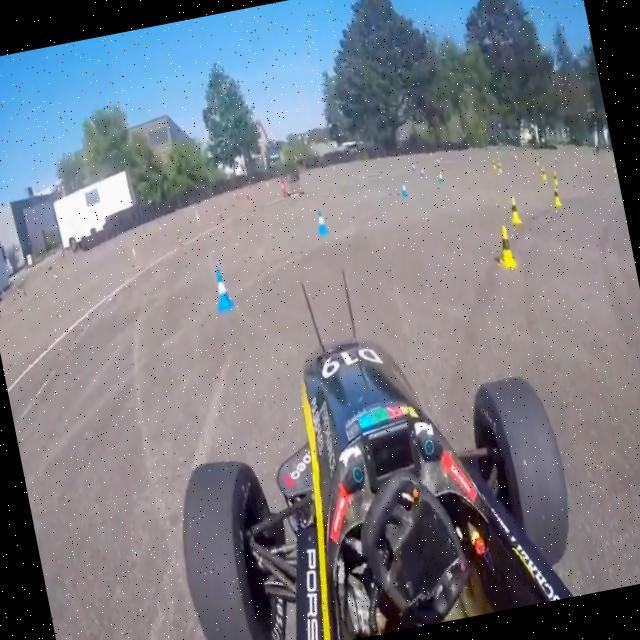blue_cone: (210, 265, 236, 316), (314, 208, 330, 237)
yellow_cone: (492, 222, 518, 270), (507, 196, 522, 225), (550, 183, 564, 208)
